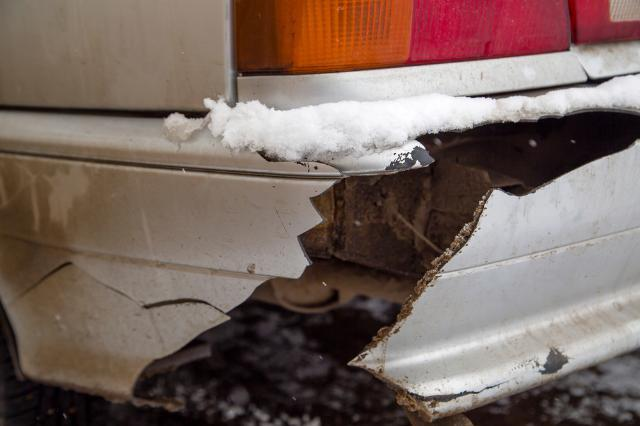crack: (406, 379, 513, 403)
no part: (7, 108, 640, 405)
